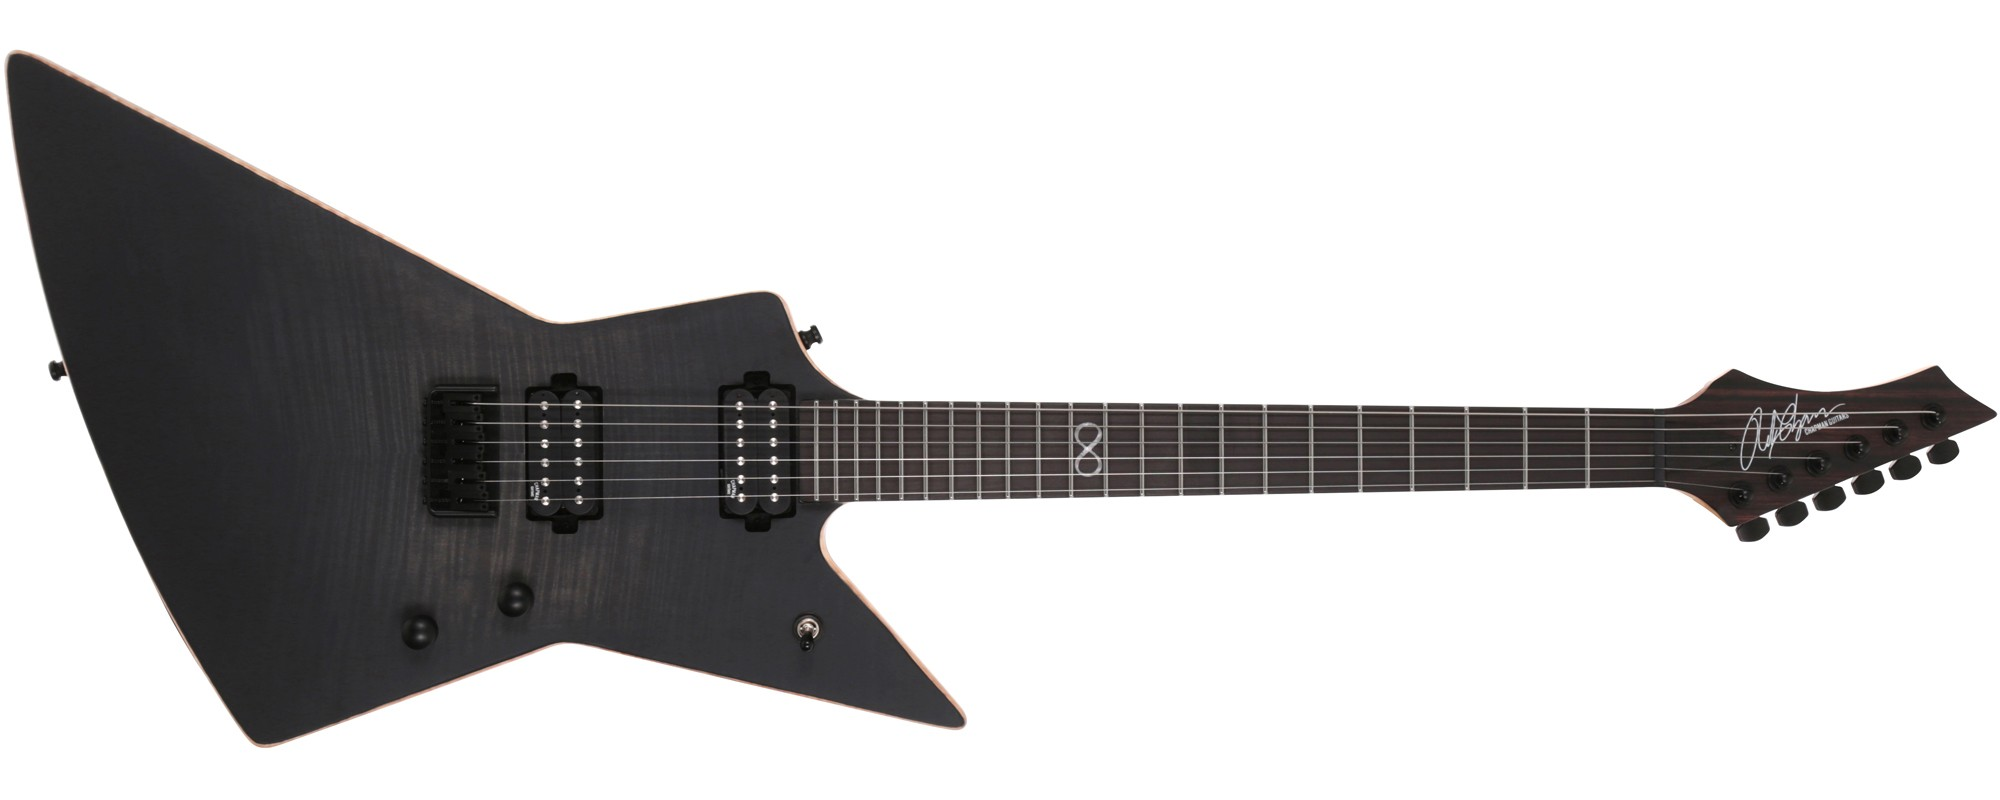ElectricGuitar: (8, 31, 1997, 769)
